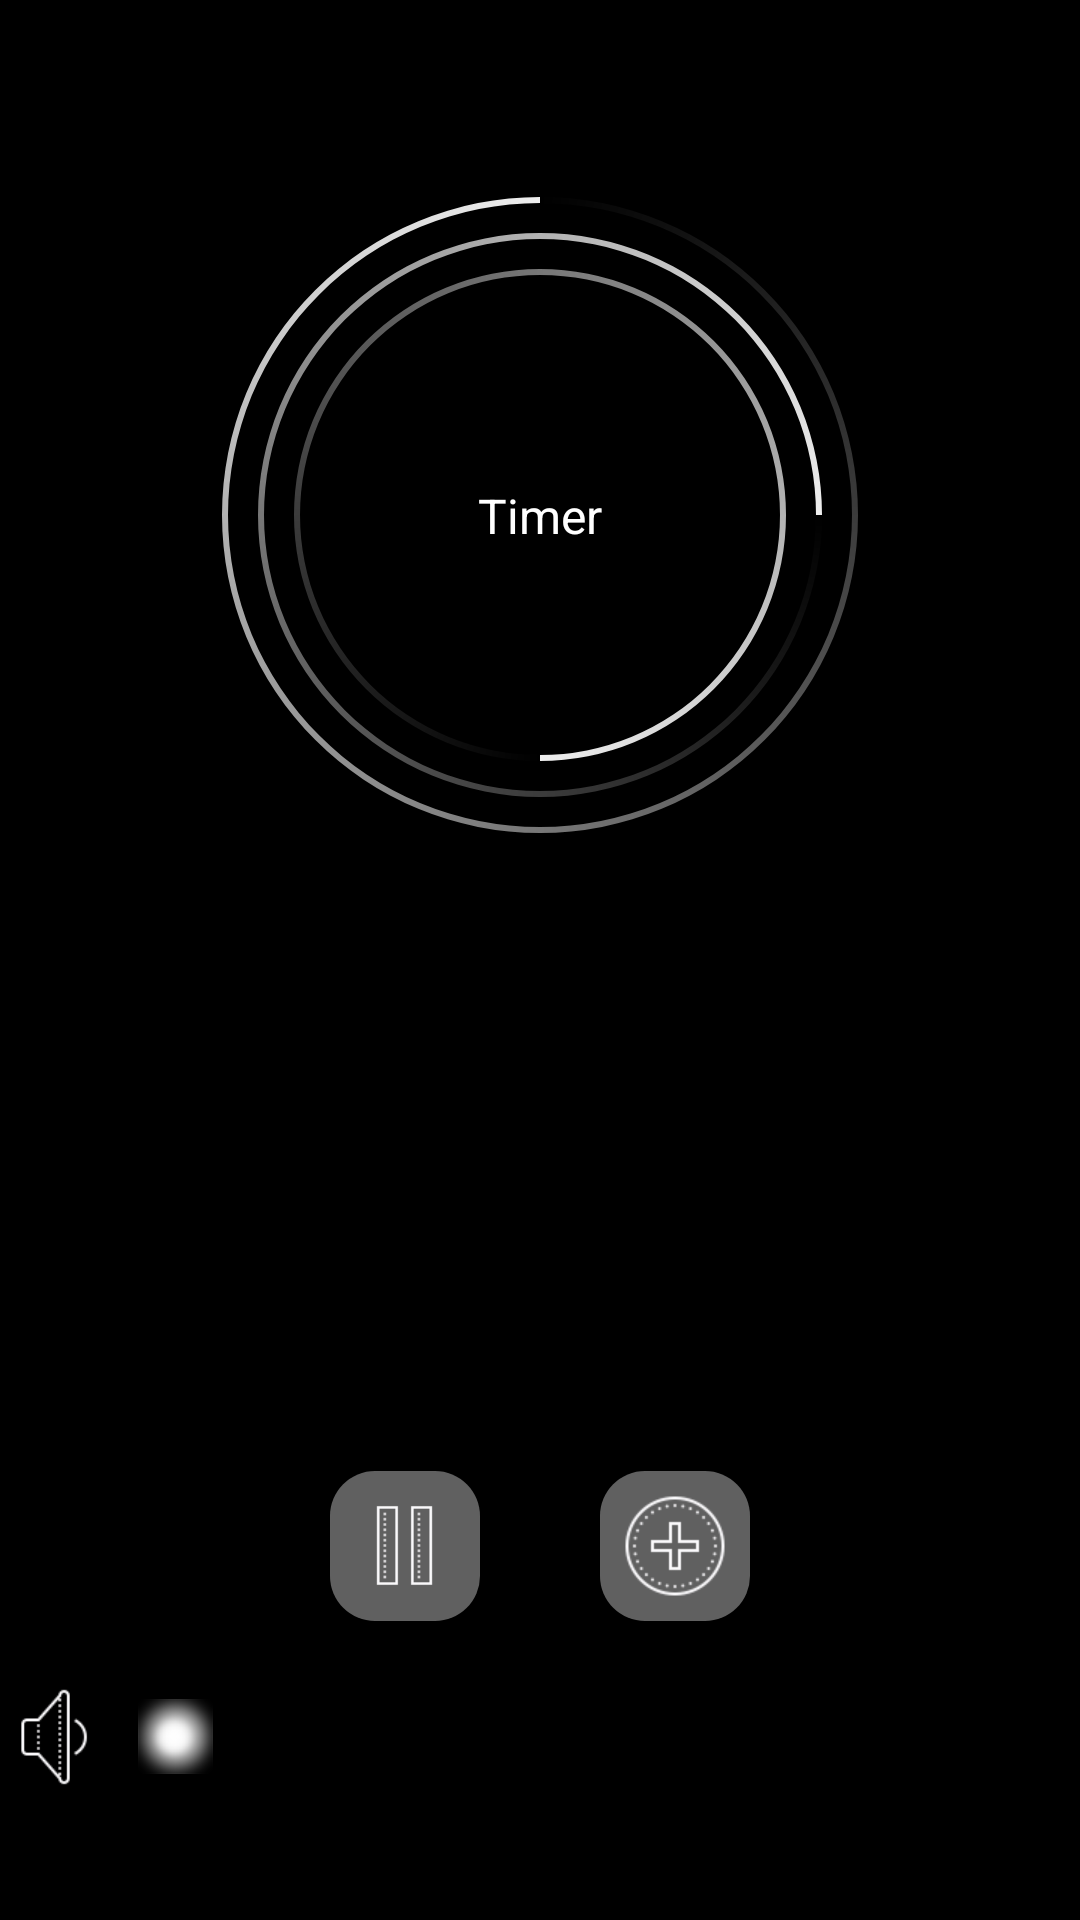

Icon click points for this 1080×1920 phone screenshot, format point (x, y):
add: point (675, 1546)
pause: point (404, 1545)
volume: point (54, 1737)
